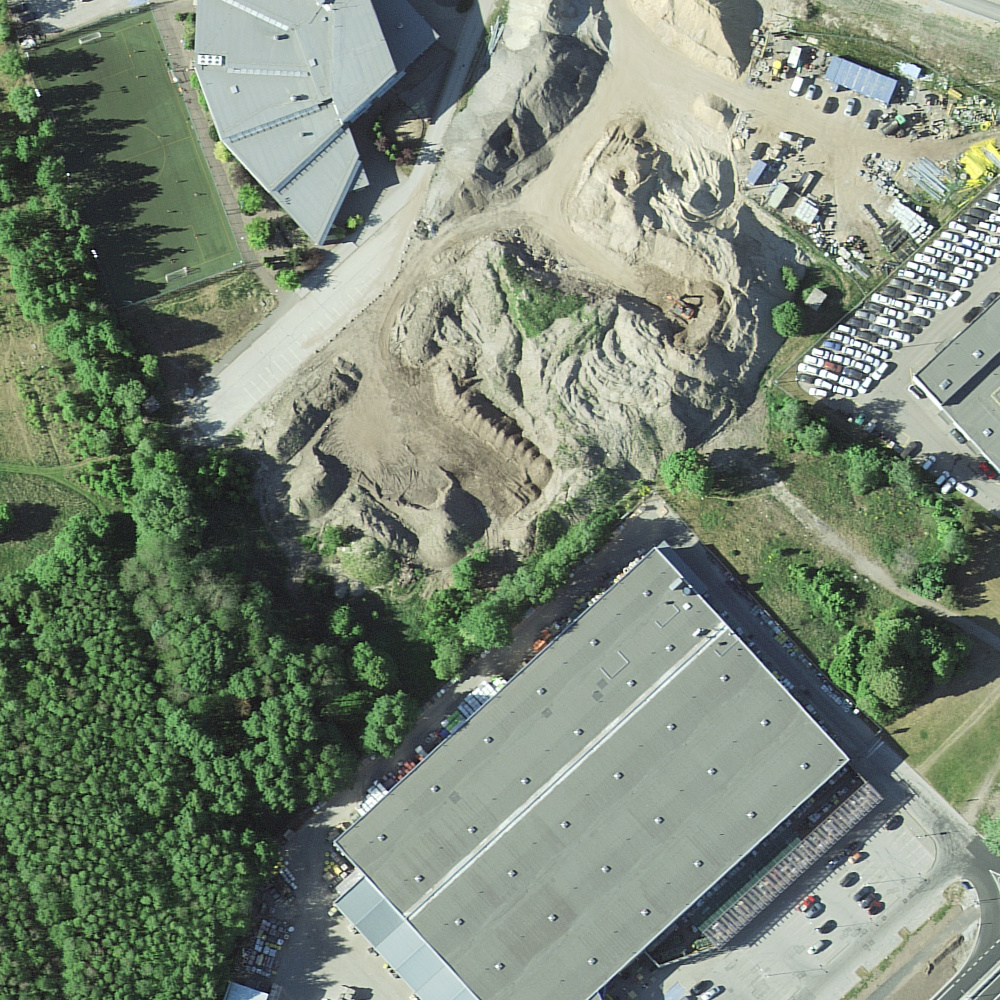building: (334, 549, 849, 998), (195, 1, 440, 246), (914, 298, 999, 470), (827, 58, 897, 101)
